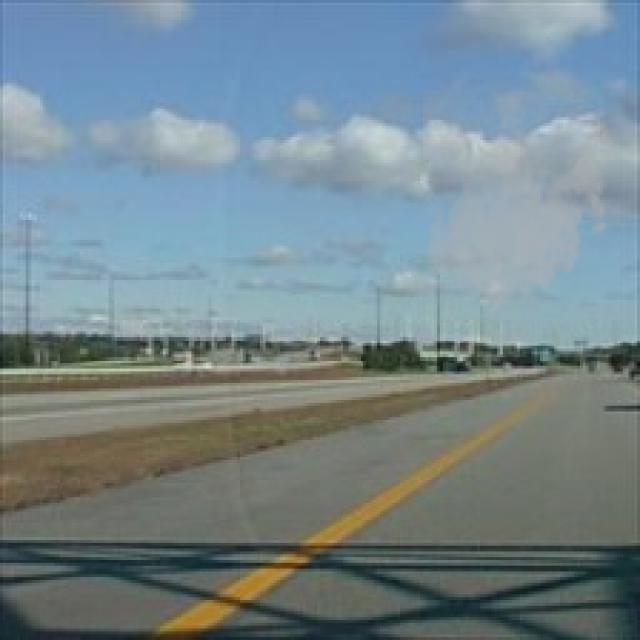Smoke: (420, 91, 620, 323)
